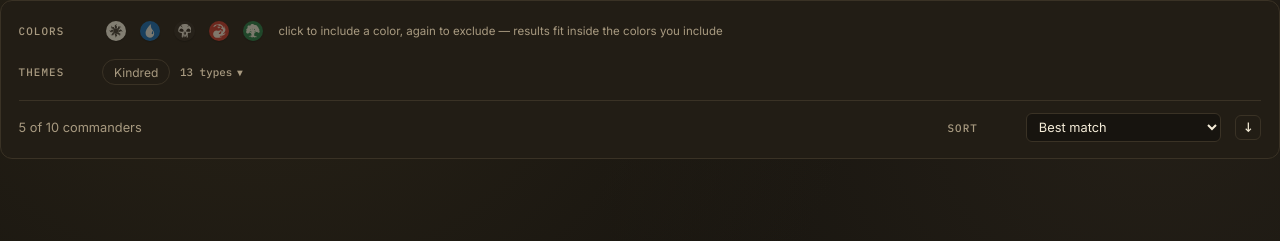
Test: ResultFilters › shows a search box once a narrowed list has more than 12 entries
Click the button "13 types ▼". click: (211, 72)
box: [175,62,248,82]
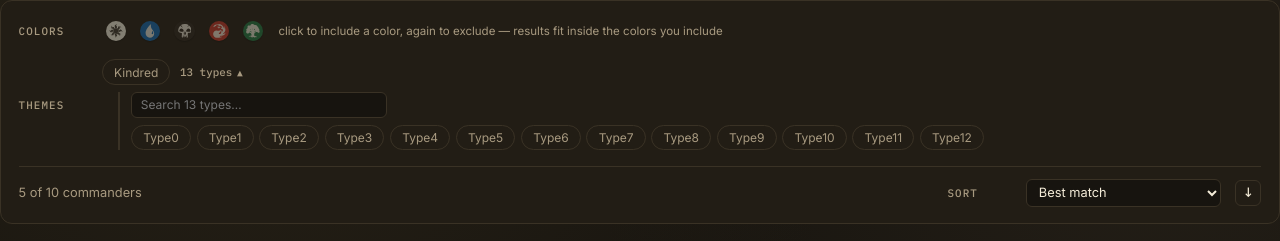
Expected: the field with placeholder "Search 13 types…" is shown, [131,92,387,118]
